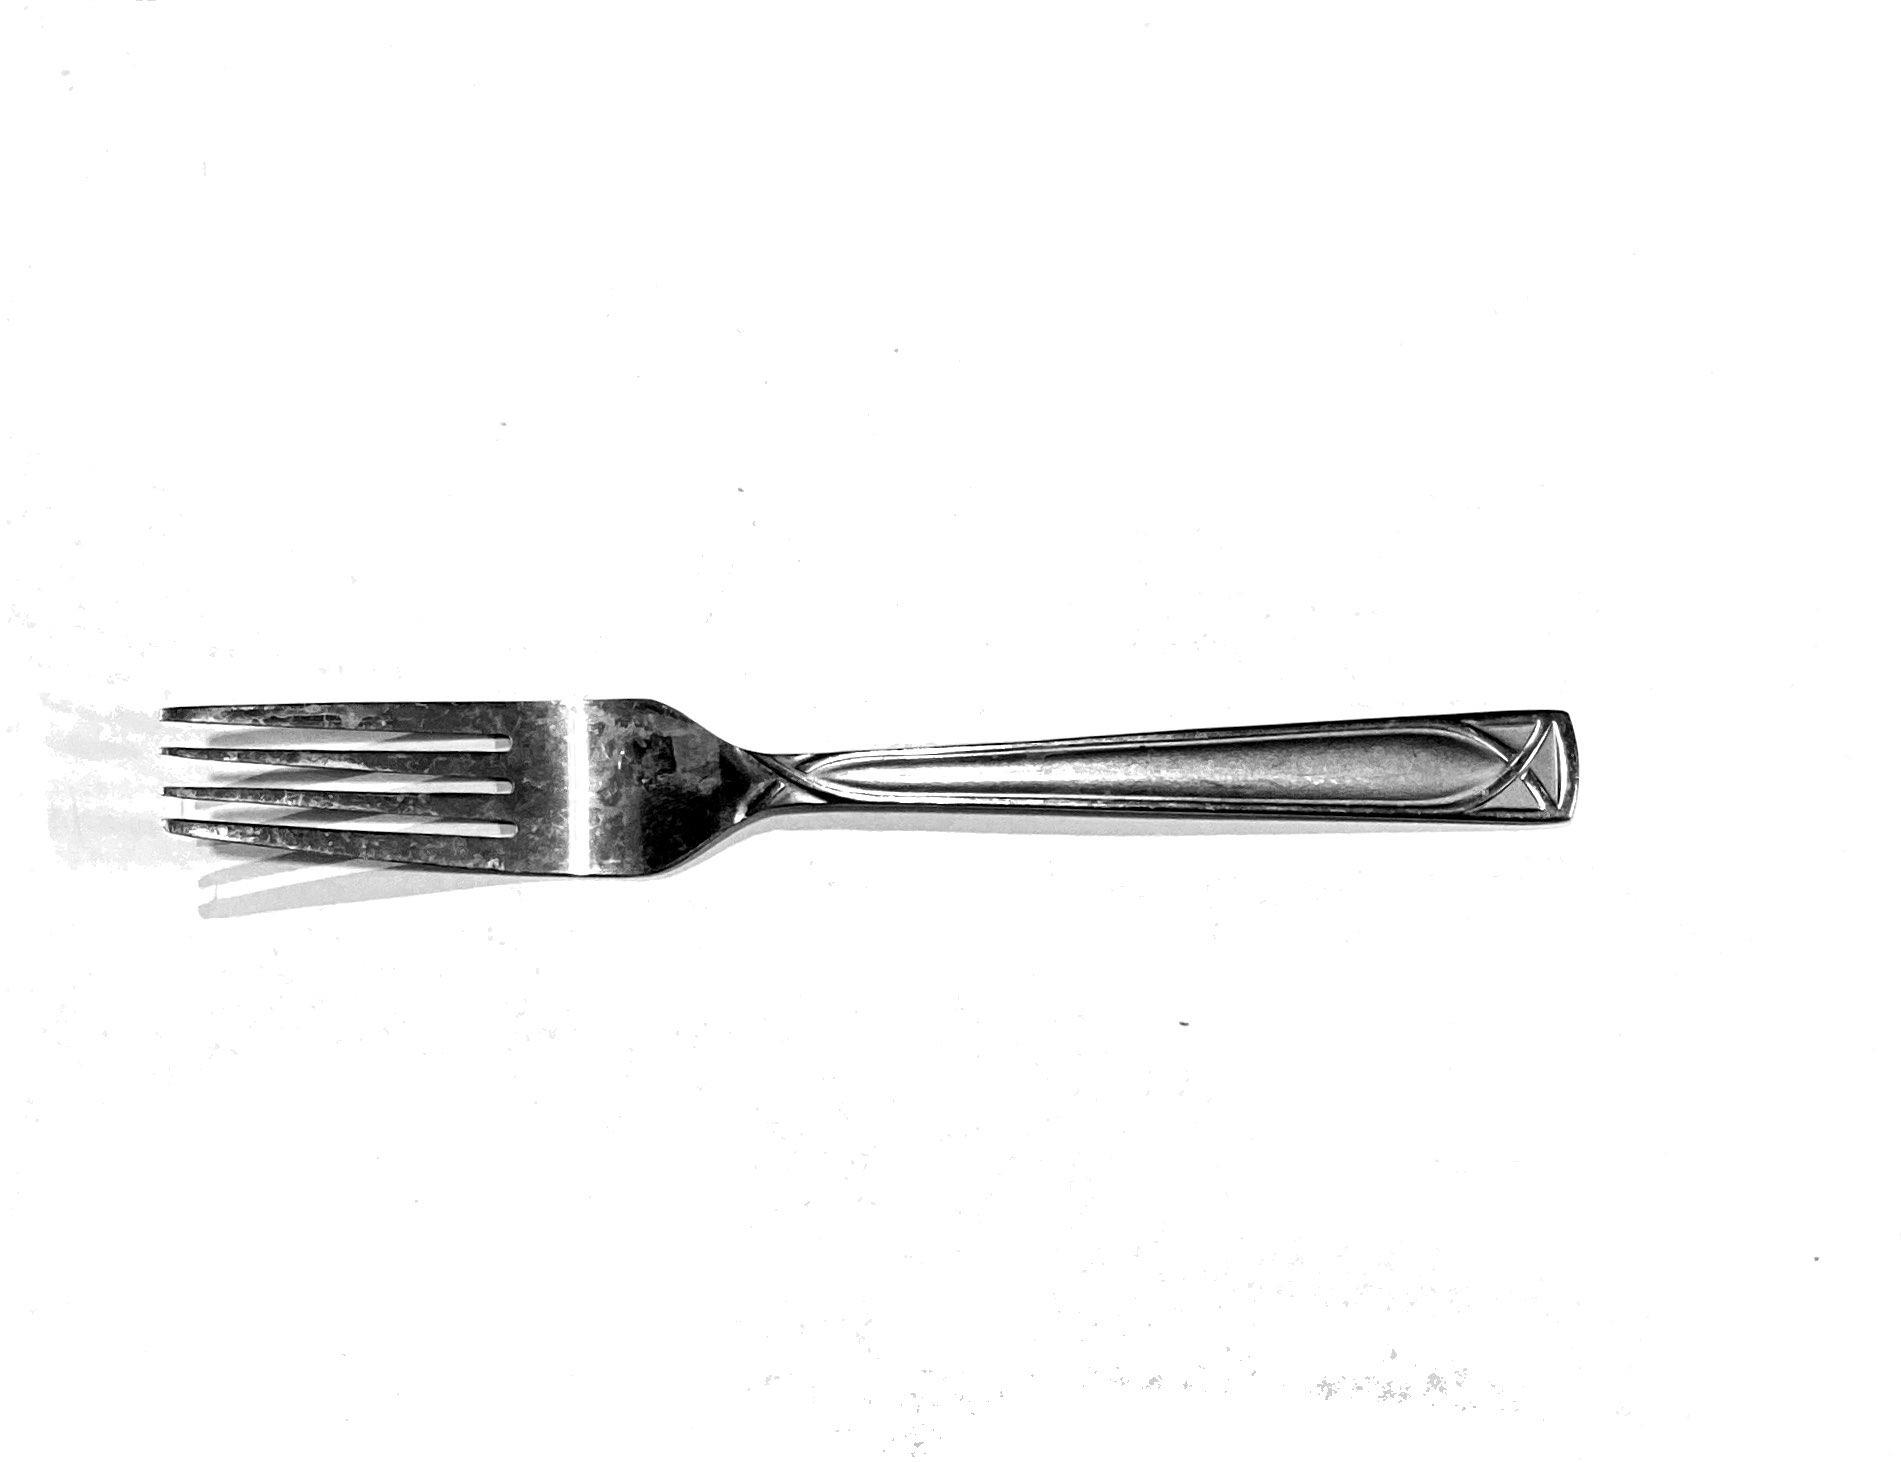Fork: (121, 556, 1800, 1105)
